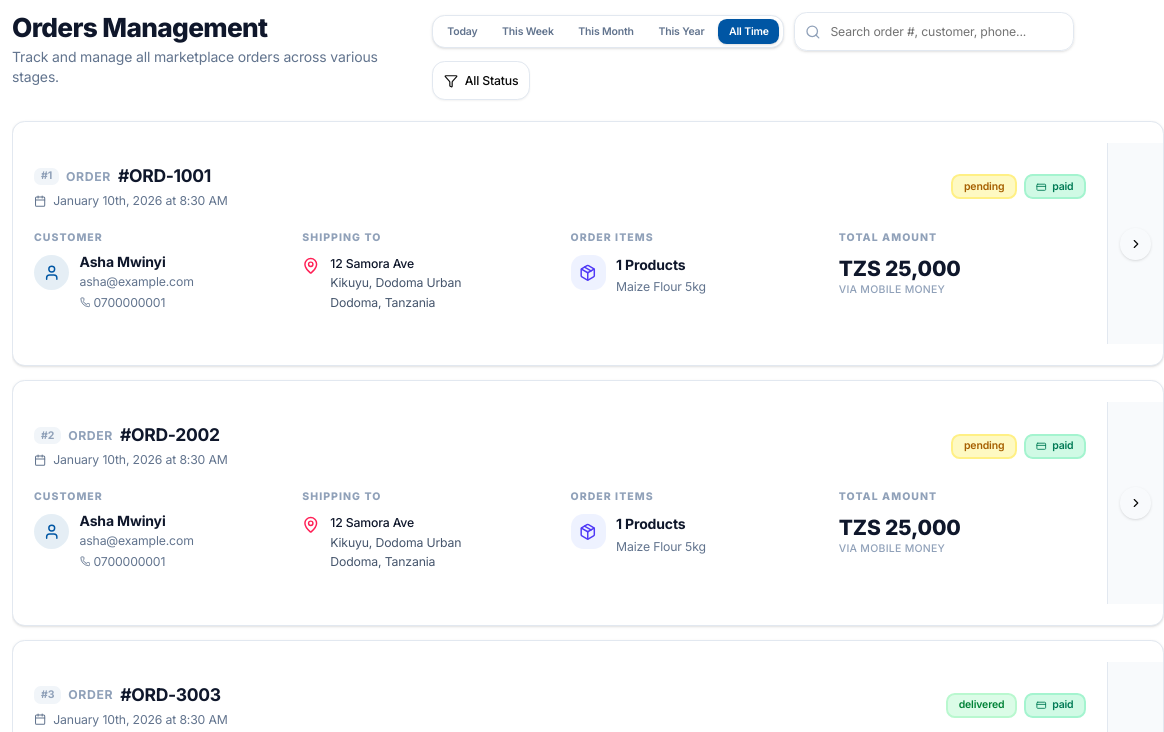
Test case: OrdersManagementTab › composes the status filter with the search filter
Click the button "All Status" at {"x": 481, "y": 81}, box [432,61,530,100]
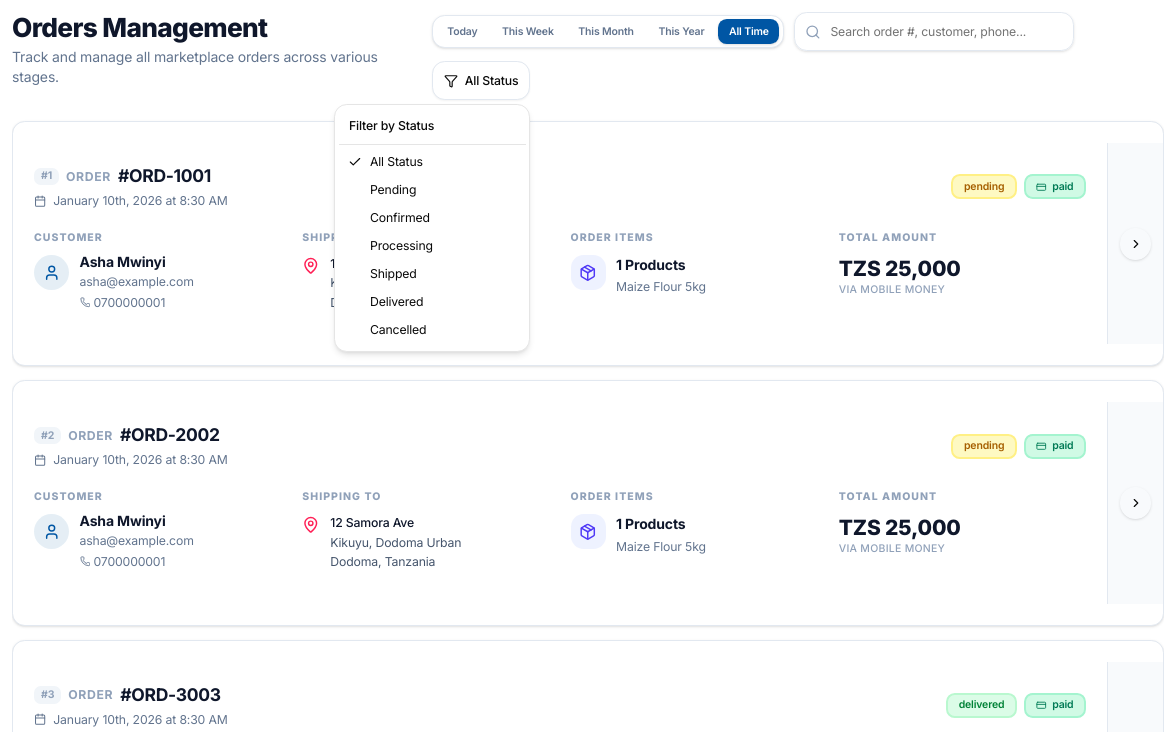
Click the menu item "Pending" at {"x": 393, "y": 190}, box [370,182,416,197]
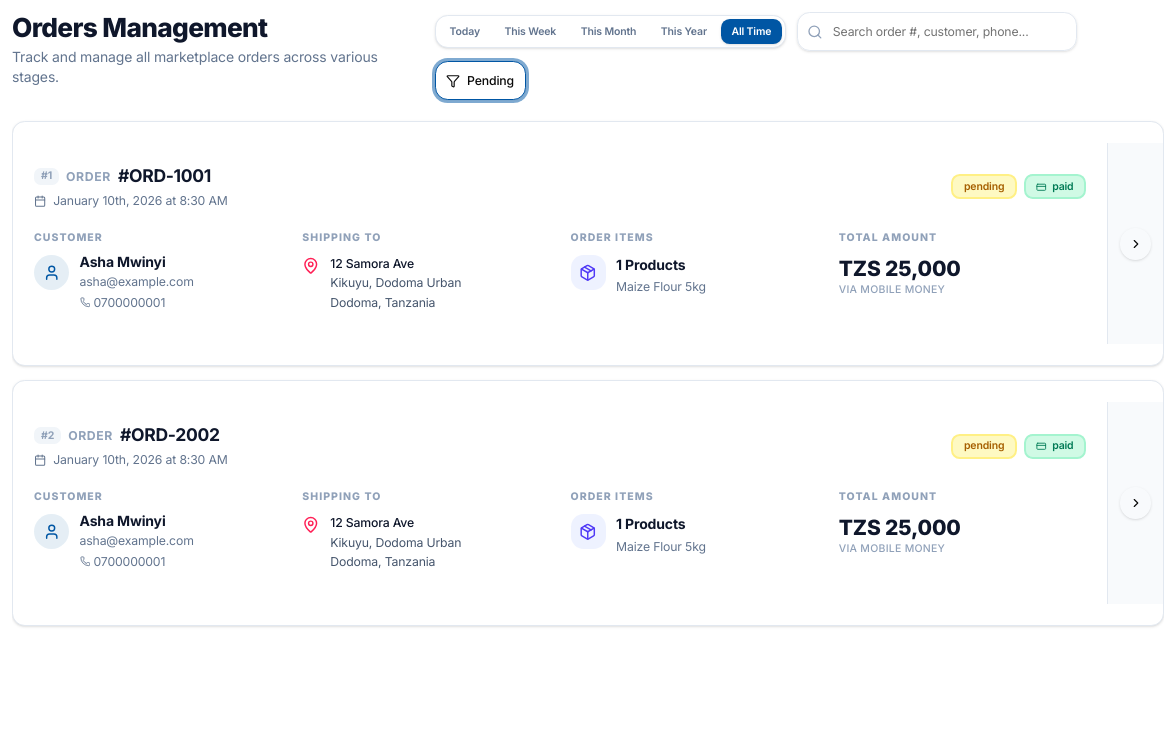
Type "2002" into the field with placeholder "Search order #, customer, phone..." at {"x": 937, "y": 32}, box [797,12,1077,51]
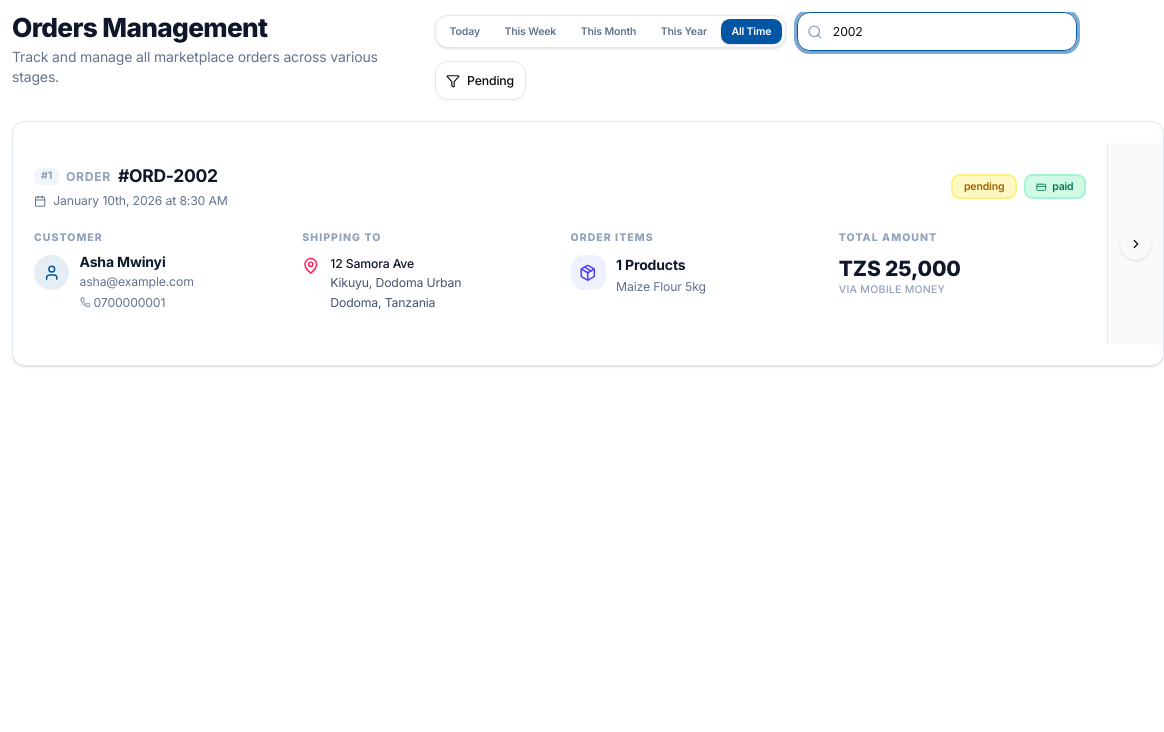
Expected: the heading "#ORD-2002" is shown, [118,164,218,189]
Expected: the heading "#ORD-1001" is gone
